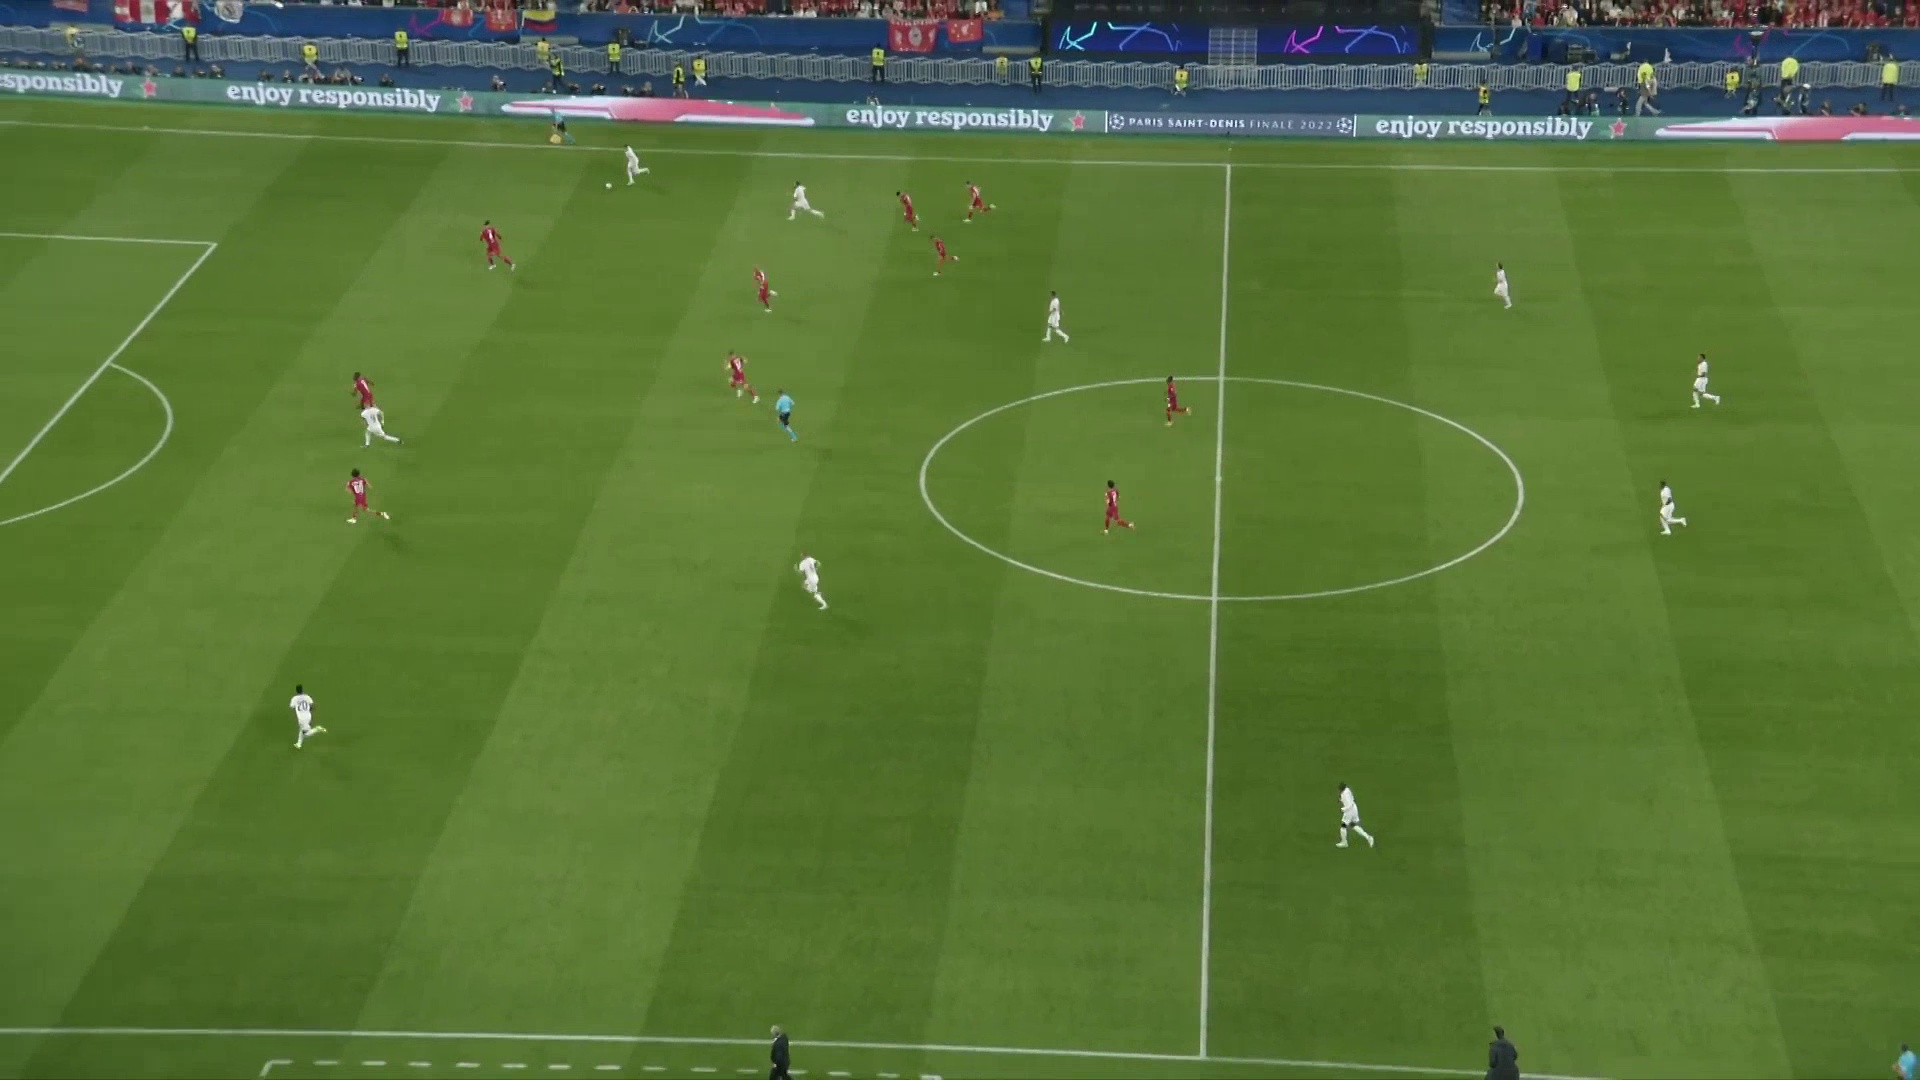ball: (601, 174, 618, 192)
player 1: (618, 132, 649, 185)
player 10: (1636, 474, 1711, 547)
player 11: (1327, 771, 1390, 851)
player 13: (465, 205, 524, 282)
player 14: (338, 461, 399, 541)
player 15: (737, 257, 787, 315)
player 16: (336, 373, 390, 403)
player 17: (715, 334, 759, 414)
player 18: (881, 183, 927, 235)
player 19: (922, 231, 961, 282)
player 2: (786, 174, 828, 237)
player 20: (959, 164, 1009, 241)
player 21: (1148, 368, 1207, 442)
player 22: (1086, 463, 1140, 547)
player 3: (274, 668, 340, 756)
player 4: (358, 401, 397, 448)
player 5: (786, 547, 836, 614)
player 7: (1037, 287, 1075, 356)
player 8: (1470, 254, 1523, 317)
player 9: (1690, 345, 1726, 420)
reffree: (771, 381, 812, 446)
